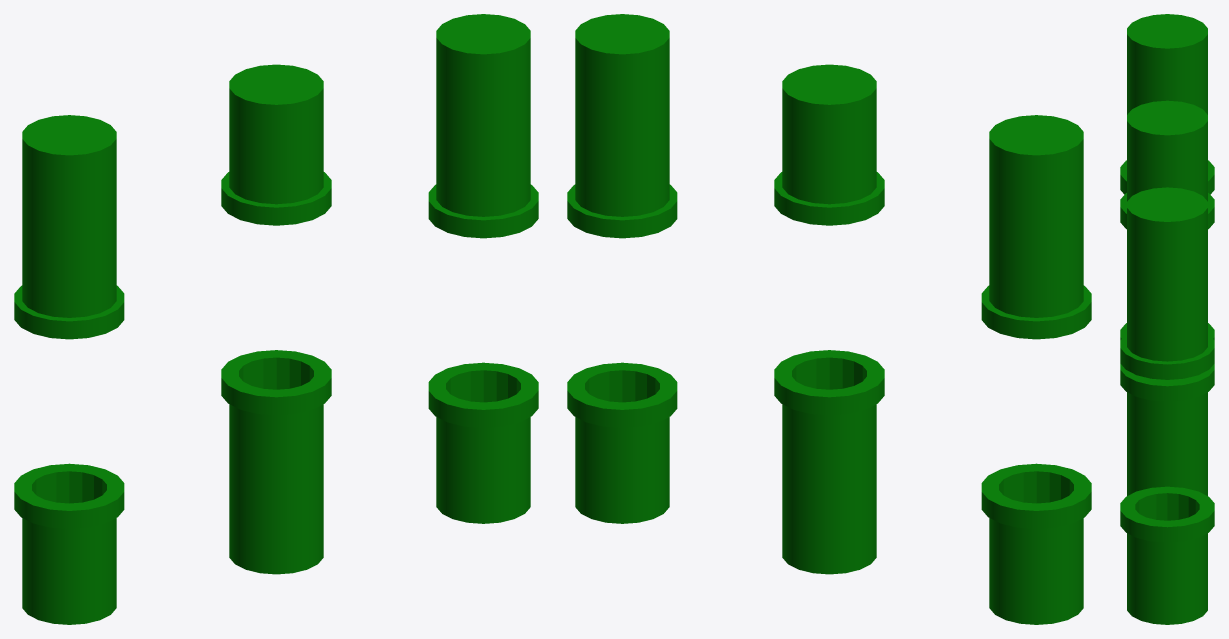
Rendered from stageGreen.fbx.
3 views of the same model, side by side, from view 1: azimuth 30°, elevation 25°; view 2: azimuth 150°, elevation 25°; view 3: azimuth 270°, elevation 25° (orthographic). The views are drawn at different scales.
Visible parts, largest first — view 1: stage_green_0; view 2: stage_green_0; view 3: stage_green_0.
Boxes of the visible parts, box(x1,y1,x2,y2) form: stage_green_0: box(14, 14, 538, 624); stage_green_0: box(567, 14, 1091, 624); stage_green_0: box(1120, 14, 1214, 624).
Bounding box in the file's own units: 74.03 × 65 × 13.82.
